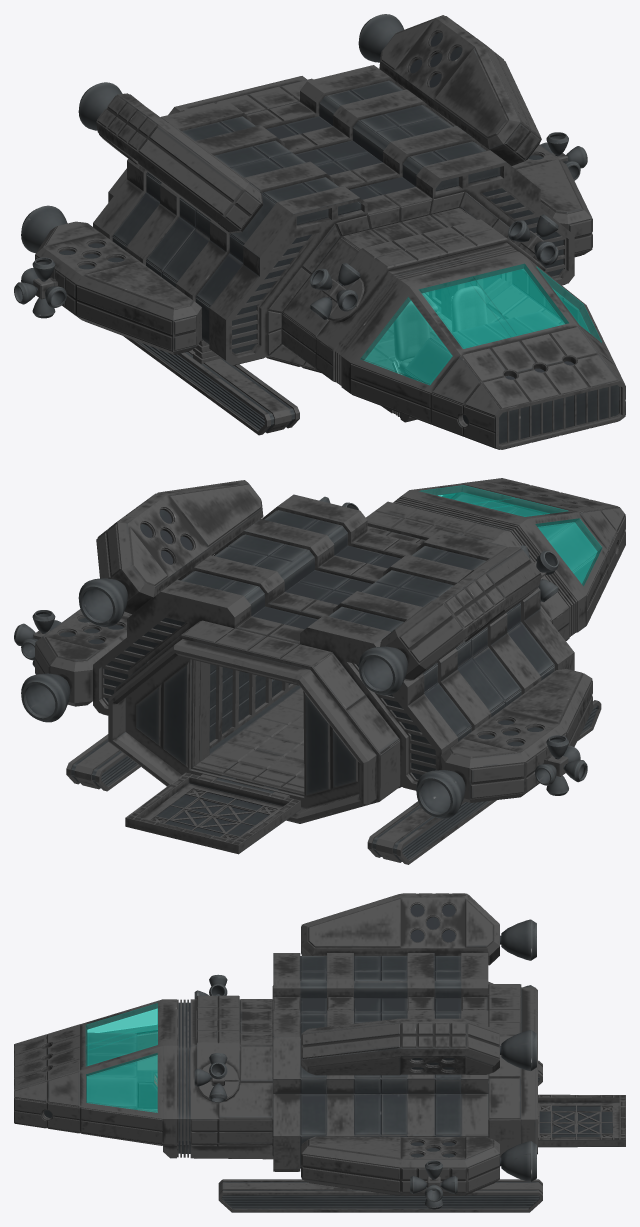
The model's file is shuttle.glb.
3 renders of one model, top to bottom at view 1: azimuth 30°, elevation 25°; view 2: azimuth 150°, elevation 25°; view 3: azimuth 270°, elevation 25°, orthographic. The views are drawn at different scales.
Visible parts, largest first — view 1: shuttleFuselage_2, shuttleWindshield_5, shuttleSeatingCushion_3; view 2: shuttleFuselage_2, shuttleWindshield_5; view 3: shuttleFuselage_2, shuttleWindshield_5.
Part boxes in pixels (bbox=[...]): shuttleFuselage_2: bbox=[14, 14, 625, 449]; shuttleWindshield_5: bbox=[361, 264, 601, 384]; shuttleSeatingCushion_3: bbox=[393, 286, 487, 374]; shuttleFuselage_2: bbox=[14, 478, 625, 864]; shuttleWindshield_5: bbox=[420, 485, 601, 585]; shuttleFuselage_2: bbox=[14, 893, 625, 1212]; shuttleWindshield_5: bbox=[86, 1003, 157, 1112].
Size of the model in its own units: 9.56 by 3.78 by 11.1.
6 materials, 4 textured.
